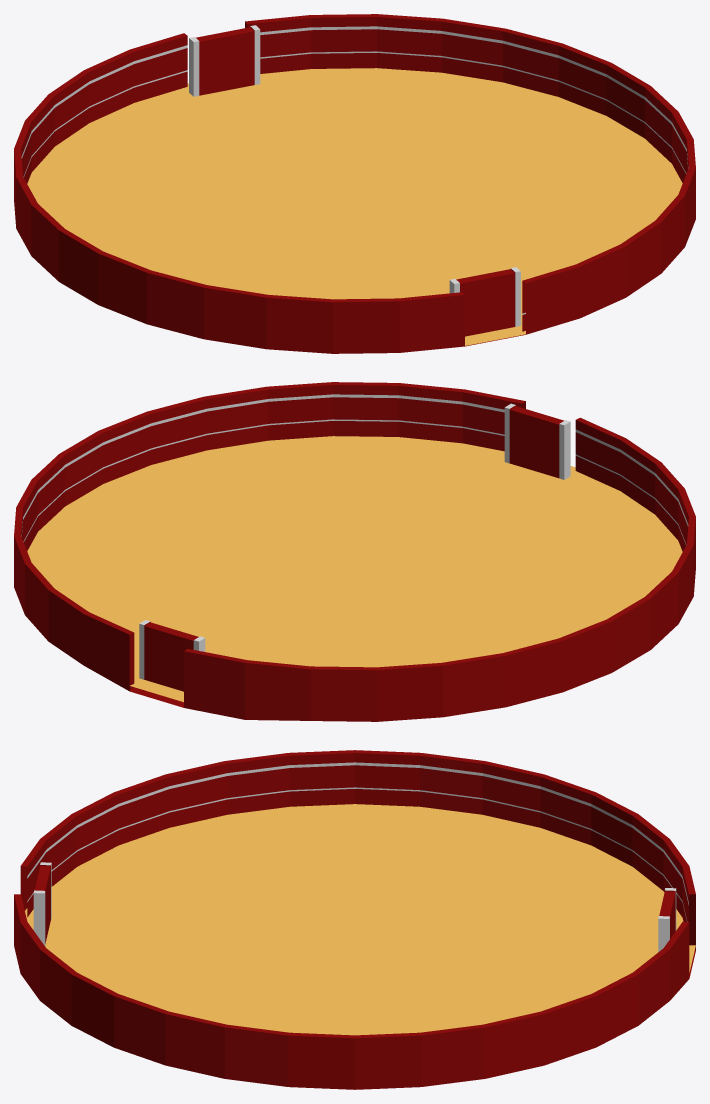
Rendered from coliseo.fbx.
3 views of the same model, one above another, from view 1: azimuth 30°, elevation 25°; view 2: azimuth 150°, elevation 25°; view 3: azimuth 270°, elevation 25° (orthographic).
Parts seen in each view (by area): view 1: base, paredes, puerta, paredes.002, puerta 2, paredes.001; view 2: base, paredes, puerta, paredes.002, puerta 2, paredes.001; view 3: base, paredes, paredes.002, paredes.001, puerta 2, puerta.
Boxes of the visible parts, x1,y1,x2,y2 form: base: (27, 68, 682, 345); paredes: (14, 14, 695, 353); puerta: (196, 26, 515, 336); paredes.002: (21, 26, 688, 168); puerta 2: (189, 25, 520, 326); paredes.001: (23, 51, 686, 314); base: (27, 436, 682, 702); paredes: (14, 382, 695, 721); puerta: (144, 405, 563, 691); paredes.002: (21, 394, 688, 536); puerta 2: (139, 403, 570, 679); paredes.001: (23, 419, 686, 545); base: (25, 804, 695, 1035); paredes: (14, 750, 695, 1089); paredes.002: (27, 762, 688, 905); paredes.001: (27, 787, 687, 921); puerta 2: (33, 862, 676, 951); puerta: (35, 865, 675, 943).
Size of the model in its own units: 3000 by 293 by 3000.
